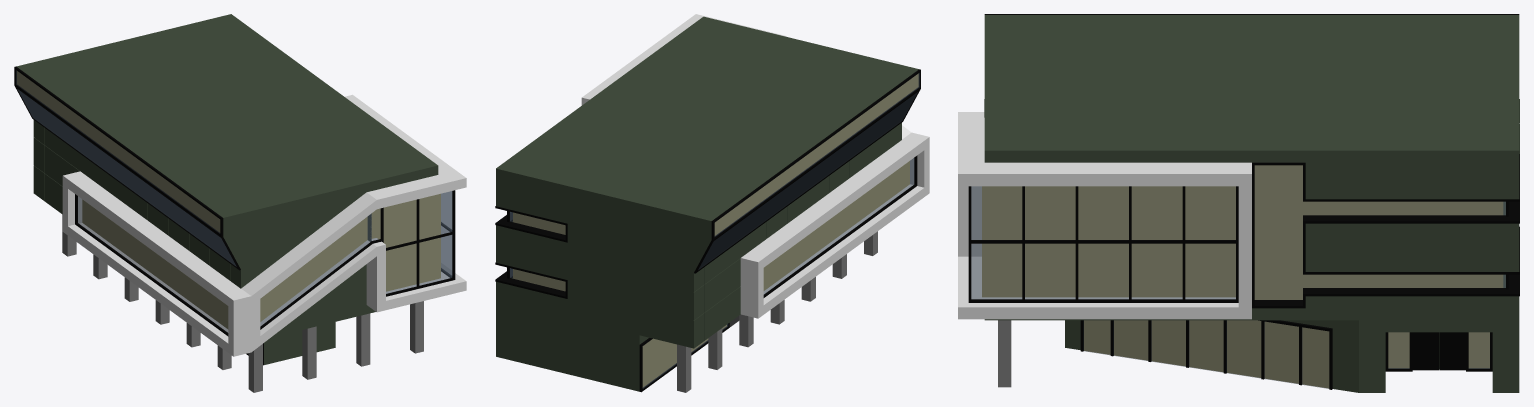
File: scene-old.glb
3 renders of one model, left to right at view 1: azimuth 30°, elevation 25°; view 2: azimuth 150°, elevation 25°; view 3: azimuth 270°, elevation 25°, orthographic. The views are drawn at different scales.
Visible parts, largest first — view 1: Main Building_0, Glass_5, Cube_9, Cube.002_11, Windows Frame_7, Pillar_1, Cube.001_10; view 2: Main Building_0, Glass_5, Cube_9, Cube.002_11, Windows Frame_7, Pillar_1, Cube.001_10; view 3: Main Building_0, Glass_5, Windows Frame_7, Main Door_2, Pillar_1.
Boxes of the visible parts, box(x1,y1,x2,y2) form: Main Building_0: box(16, 14, 466, 364); Glass_5: box(16, 70, 452, 332); Cube_9: box(62, 171, 251, 356); Cube.002_11: box(33, 120, 241, 288); Windows Frame_7: box(14, 66, 455, 365); Pillar_1: box(62, 214, 423, 392); Cube.001_10: box(75, 194, 228, 336); Main Building_0: box(496, 14, 918, 391); Glass_5: box(510, 73, 919, 388); Cube_9: box(740, 132, 929, 318); Cube.002_11: box(693, 123, 901, 348); Windows Frame_7: box(495, 69, 920, 392); Pillar_1: box(677, 231, 877, 392); Cube.001_10: box(763, 155, 917, 297); Main Building_0: box(958, 15, 1519, 392); Glass_5: box(971, 165, 1505, 388); Windows Frame_7: box(968, 14, 1519, 389); Main Door_2: box(1412, 332, 1465, 370); Pillar_1: box(998, 320, 1011, 387).
Size of the model in its own units: 13.1 by 10 by 21.02.
